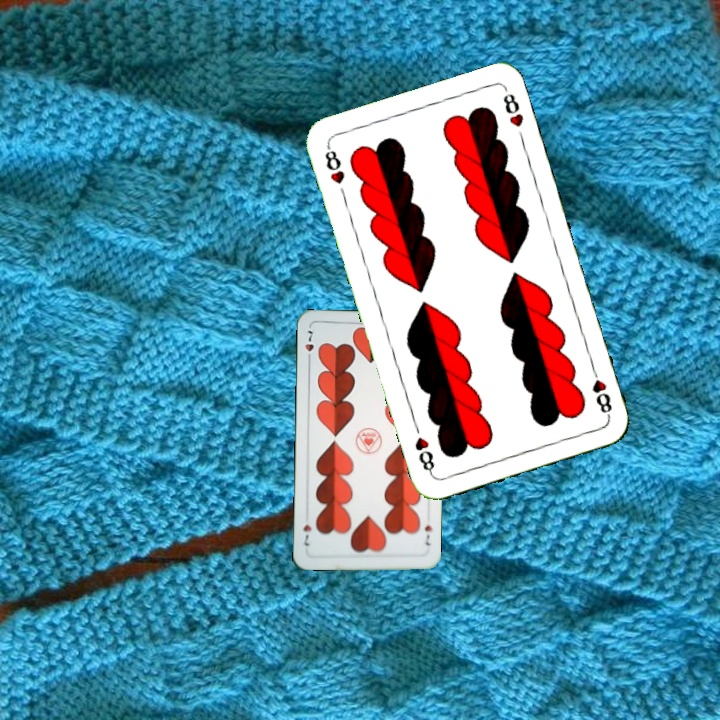H7: (301, 326, 316, 365), (421, 521, 435, 548)
H8: (587, 362, 615, 420), (321, 142, 347, 187)
